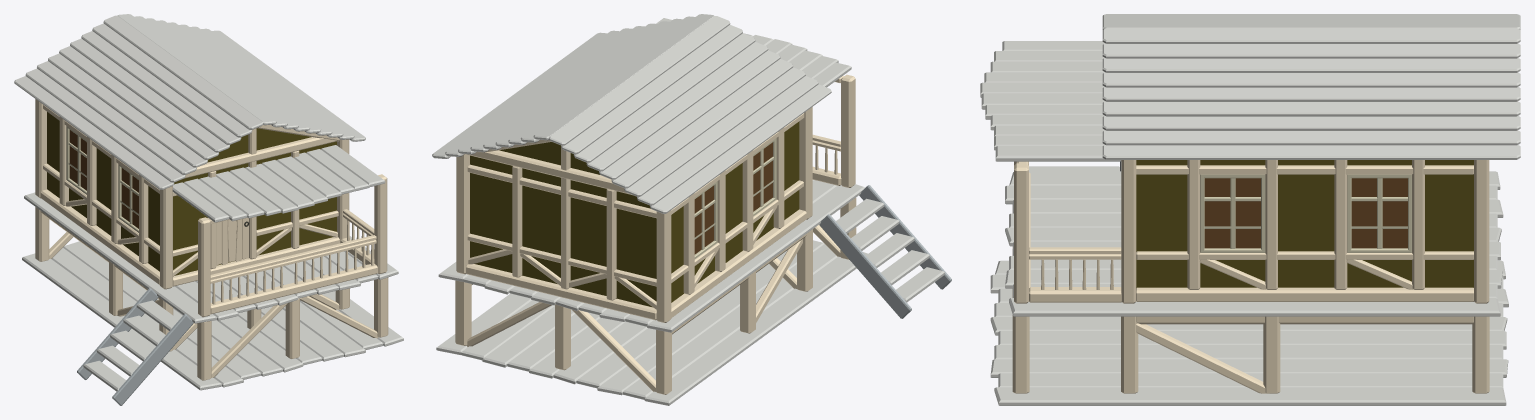
File: farmstractures_17.gltf
3 renders of one model, left to right at view 1: azimuth 30°, elevation 25°; view 2: azimuth 150°, elevation 25°; view 3: azimuth 270°, elevation 25°, orthographic. The views are drawn at different scales.
Parts seen in each view (by area): view 1: blades, body; view 2: blades, body; view 3: blades, body.
Boxes of the visible parts, x1=… form: blades: x1=14, y1=14, x2=387, y2=316; body: x1=14, y1=20, x2=403, y2=405; blades: x1=433, y1=14, x2=855, y2=322; body: x1=432, y1=15, x2=951, y2=405; blades: x1=980, y1=14, x2=1519, y2=302; body: x1=980, y1=15, x2=1520, y2=405.
Bounding box in the file's own units: 6.6 × 4.91 × 7.71.
Materials: 1 (1 with a texture image).
